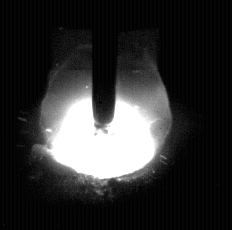arame: (93, 0, 117, 129)
poca: (40, 0, 172, 230)
